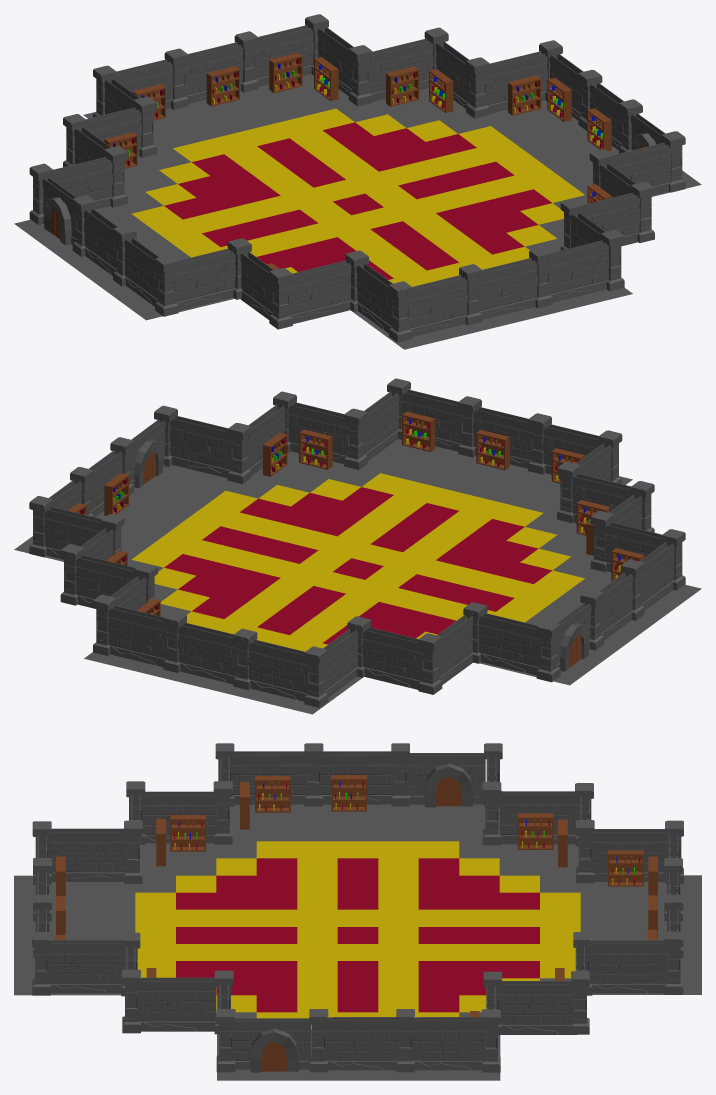
File: miniboss-room.fbx
3 renders of one model, top to bottom at view 1: azimuth 30°, elevation 25°; view 2: azimuth 150°, elevation 25°; view 3: azimuth 270°, elevation 25°, orthographic. The views are drawn at different scales.
Parts seen in each view (by area): view 1: floor, wall.043, wall.056, wall.038, wall.041, pillar.055, wall.039, pillar.067, wall.054, wall.052, wall.045, wall.063 (+40 smaller); view 2: floor, wall.056, wall.043, wall.038, wall.063, wall.051, wall.061, pillar.067, pillar.055, wall.049, wall.054, wall.045 (+40 smaller); view 3: floor, wall.052, wall.038, wall.050, wall.055, gate--NORMALS-OK.010, gate--NORMALS-OK.009, wall.048, wall.092, wall.042, wall.062, wall.040 (+28 smaller).
Boxes of the visible parts, bbox=[...] form: floor: bbox=[14, 74, 701, 349]; wall.043: bbox=[409, 240, 609, 336]; wall.056: bbox=[115, 25, 313, 109]; wall.038: bbox=[84, 208, 159, 306]; wall.041: bbox=[289, 260, 351, 323]; pillar.055: bbox=[388, 247, 552, 342]; wall.039: bbox=[175, 248, 235, 310]; pillar.067: bbox=[164, 14, 328, 109]; wall.054: bbox=[369, 38, 433, 101]; wall.052: bbox=[549, 53, 623, 150]; wall.045: bbox=[485, 51, 547, 113]; wall.063: bbox=[50, 157, 112, 209]; floor: bbox=[14, 439, 701, 714]; wall.056: bbox=[108, 605, 307, 701]; wall.043: bbox=[401, 389, 601, 474]; wall.038: bbox=[599, 542, 674, 639]; wall.063: bbox=[478, 613, 539, 675]; wall.051: bbox=[170, 415, 230, 478]; wall.061: bbox=[362, 627, 421, 689]; pillar.067: bbox=[93, 594, 257, 690]; pillar.055: bbox=[457, 396, 622, 483]; wall.049: bbox=[288, 402, 347, 463]; wall.054: bbox=[75, 555, 136, 608]; wall.045: bbox=[44, 506, 103, 559]; floor: bbox=[14, 804, 701, 1080]; wall.052: bbox=[325, 1017, 484, 1070]; wall.038: bbox=[231, 751, 393, 804]; wall.050: bbox=[138, 977, 215, 1031]; wall.055: bbox=[589, 940, 667, 993]; gate--NORMALS-OK.010: bbox=[233, 1018, 311, 1072]; gate--NORMALS-OK.009: bbox=[407, 753, 485, 807]; wall.048: bbox=[48, 940, 123, 993]; wall.092: bbox=[499, 981, 576, 1034]; wall.042: bbox=[49, 828, 126, 881]; wall.062: bbox=[500, 791, 577, 844]; wall.040: bbox=[142, 791, 216, 843].
Size of the model in its own units: 3858 by 358 by 3858.
